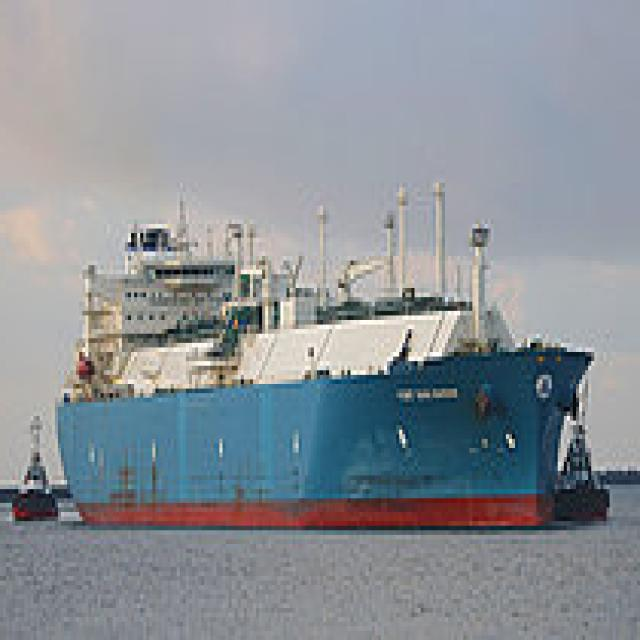Tanker: (55, 169, 606, 530)
